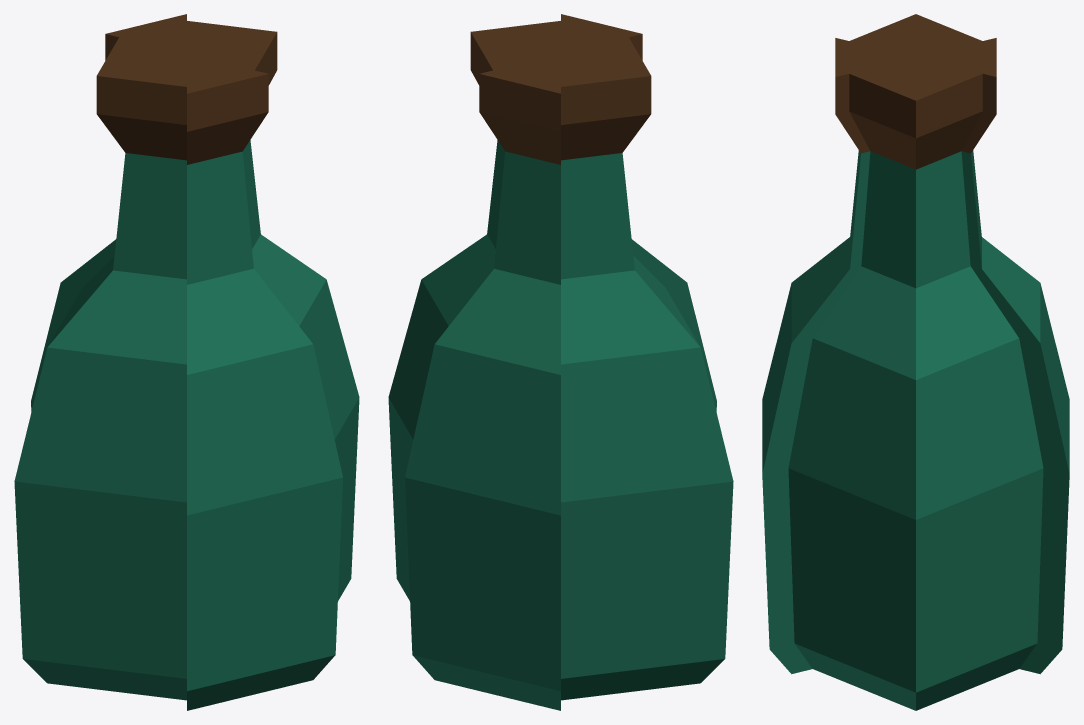
Rendered from bottle_family__angular.obj.
The picture shows the model from 3 angles, left to right: view 1: azimuth 30°, elevation 25°; view 2: azimuth 150°, elevation 25°; view 3: azimuth 270°, elevation 25°; orthographic projection.
Visible parts, largest first — view 1: ITEM_Bottle_Family.001_MAT_GlassEmerald, ITEM_Bottle_Family.001_MAT_Cork; view 2: ITEM_Bottle_Family.001_MAT_GlassEmerald, ITEM_Bottle_Family.001_MAT_Cork; view 3: ITEM_Bottle_Family.001_MAT_GlassEmerald, ITEM_Bottle_Family.001_MAT_Cork.
Boxes of the visible parts, <box> form: ITEM_Bottle_Family.001_MAT_GlassEmerald: <box>14,140,359,710</box>; ITEM_Bottle_Family.001_MAT_Cork: <box>96,14,277,164</box>; ITEM_Bottle_Family.001_MAT_GlassEmerald: <box>388,140,733,710</box>; ITEM_Bottle_Family.001_MAT_Cork: <box>470,14,651,164</box>; ITEM_Bottle_Family.001_MAT_GlassEmerald: <box>762,150,1069,710</box>; ITEM_Bottle_Family.001_MAT_Cork: <box>835,14,996,169</box>.
Size of the model in its own units: 0.9744 by 1.61 by 0.7634.
